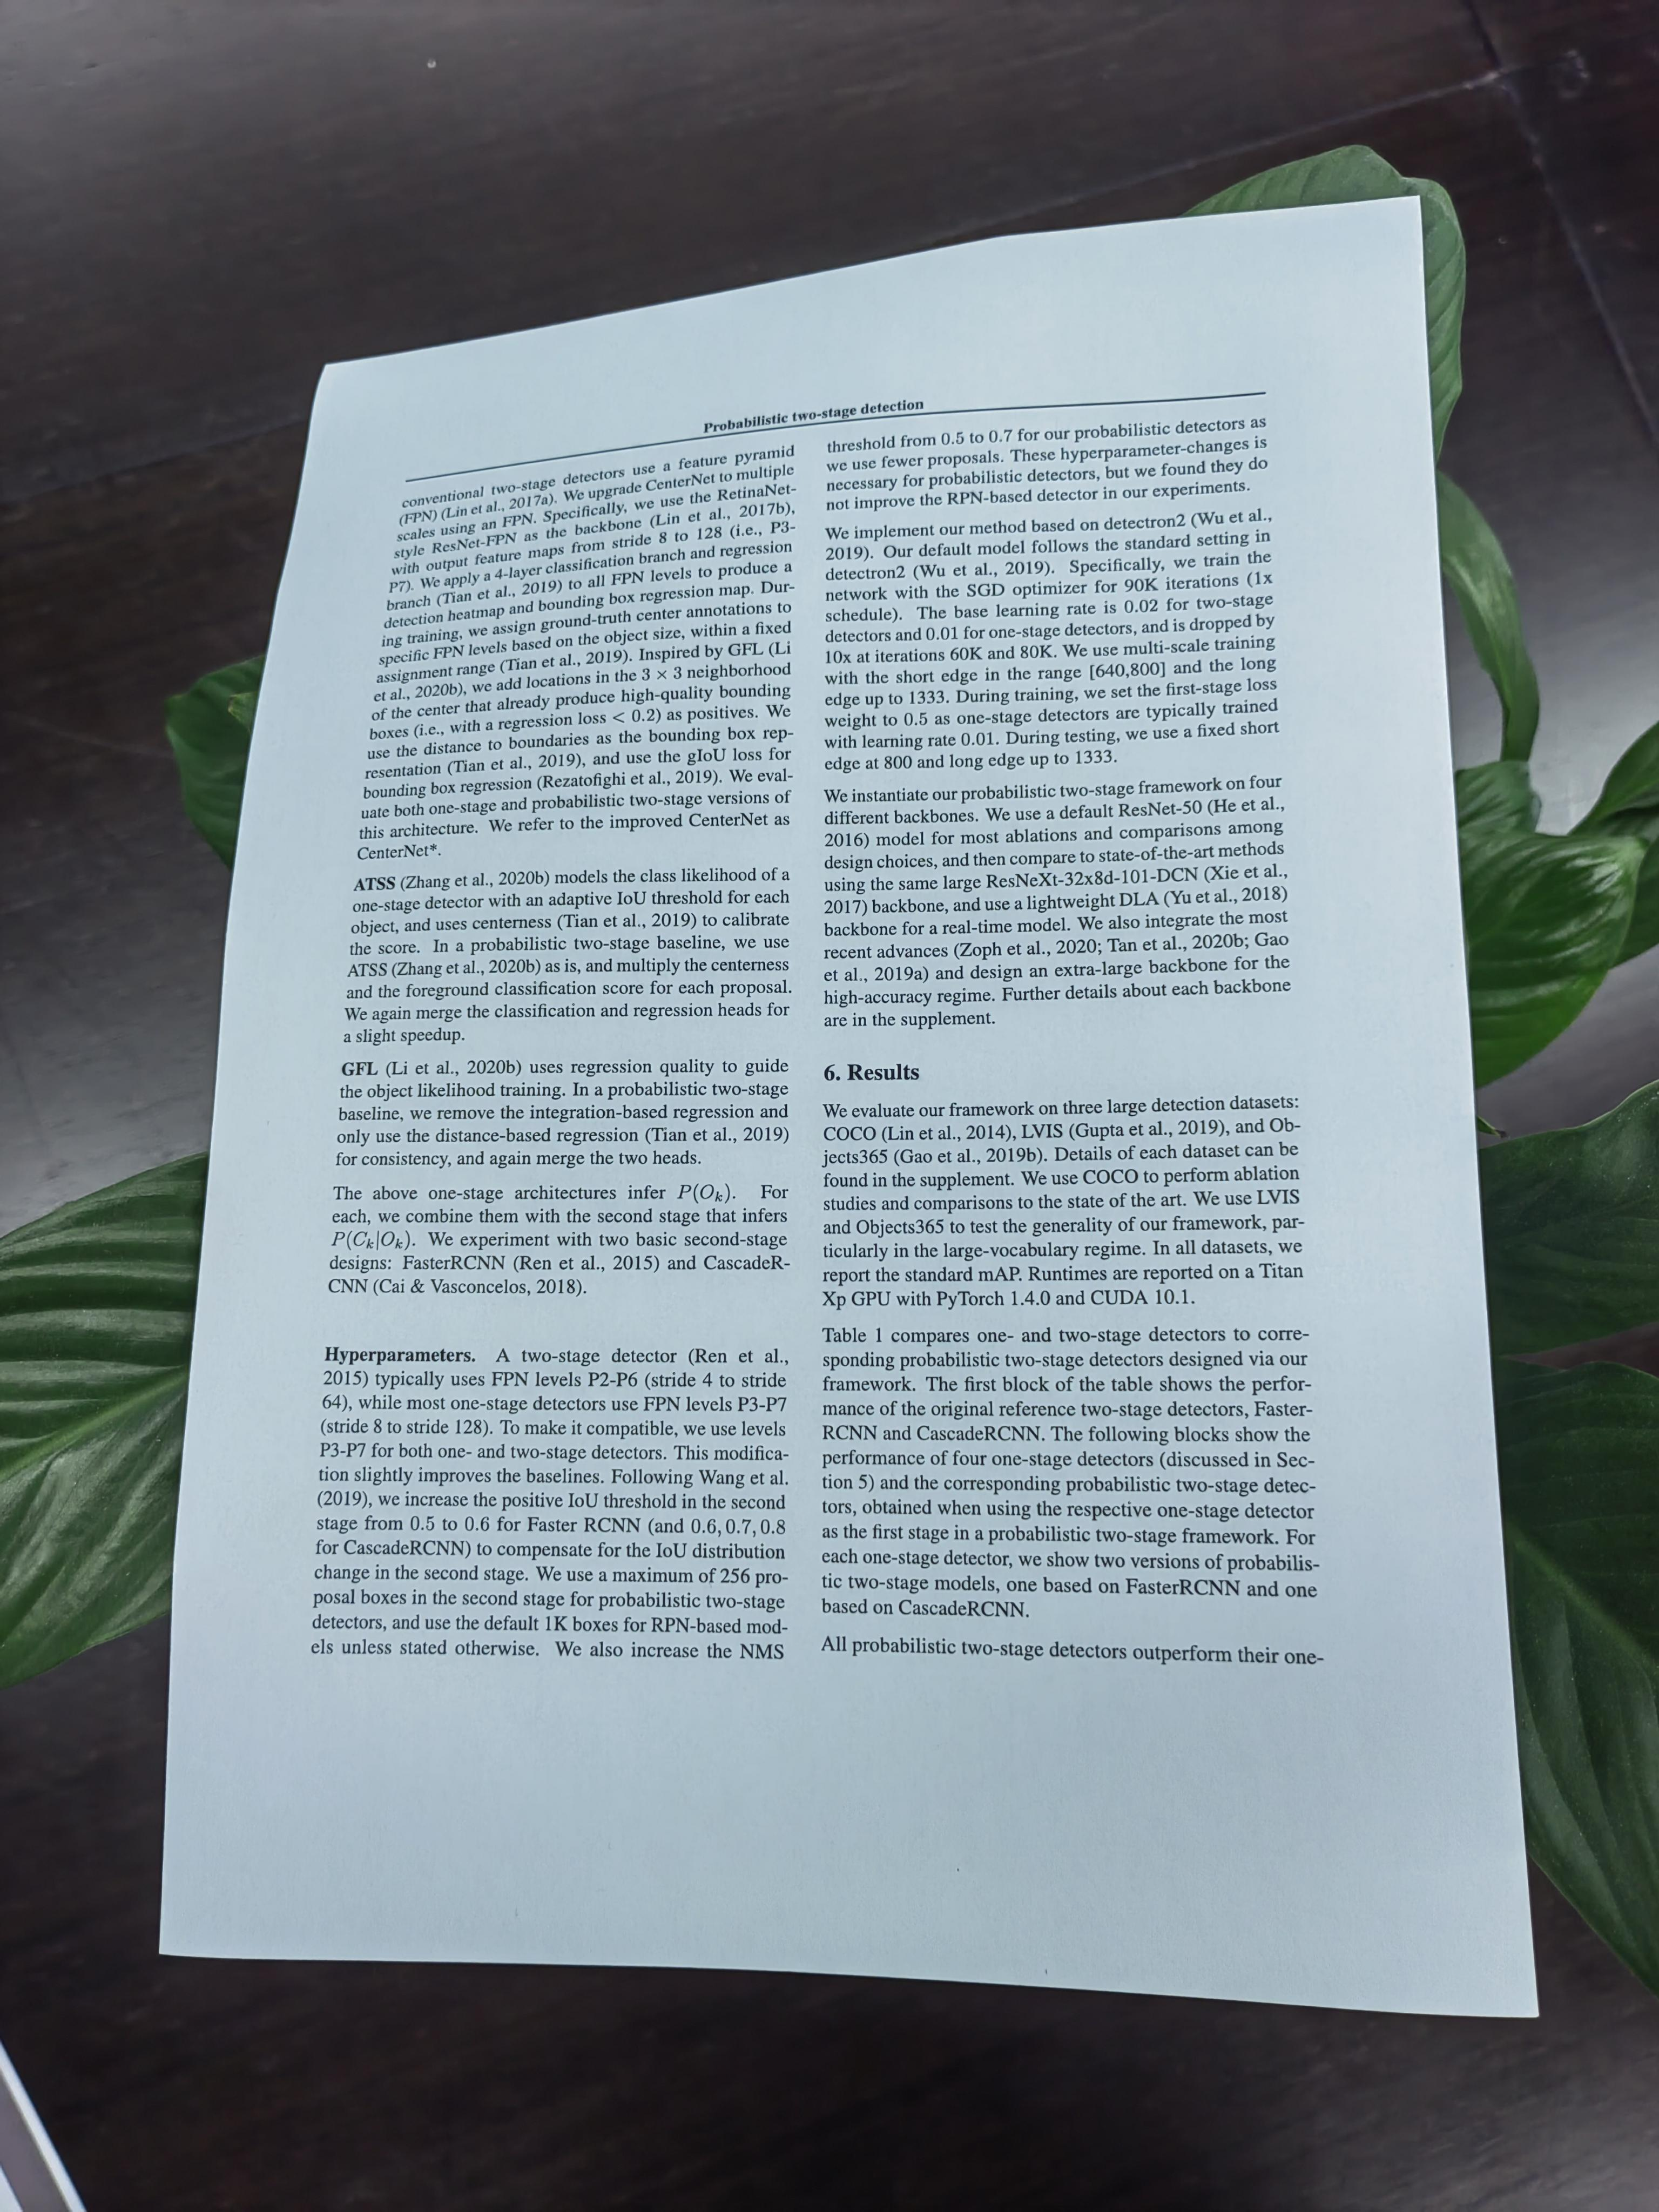paper: (54, 118, 1659, 2137)
